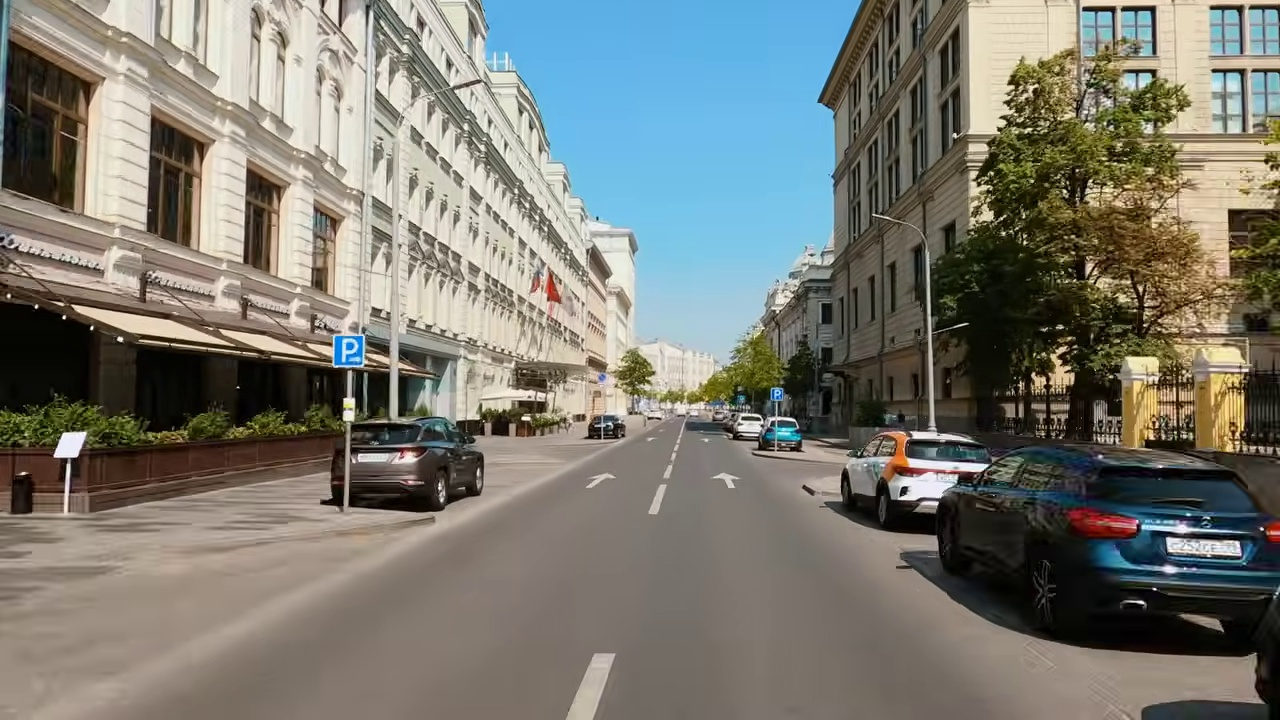apagada: (448, 74, 482, 95)
